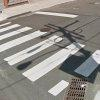Crosswalk: (4, 15, 100, 99)
